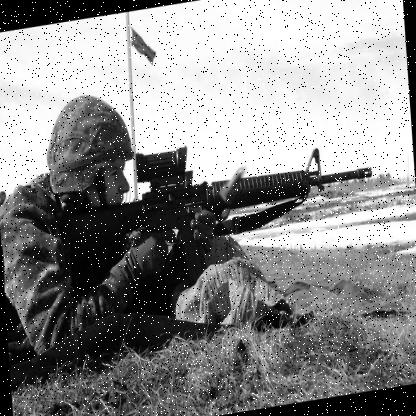rifle: (60, 115, 380, 317)
